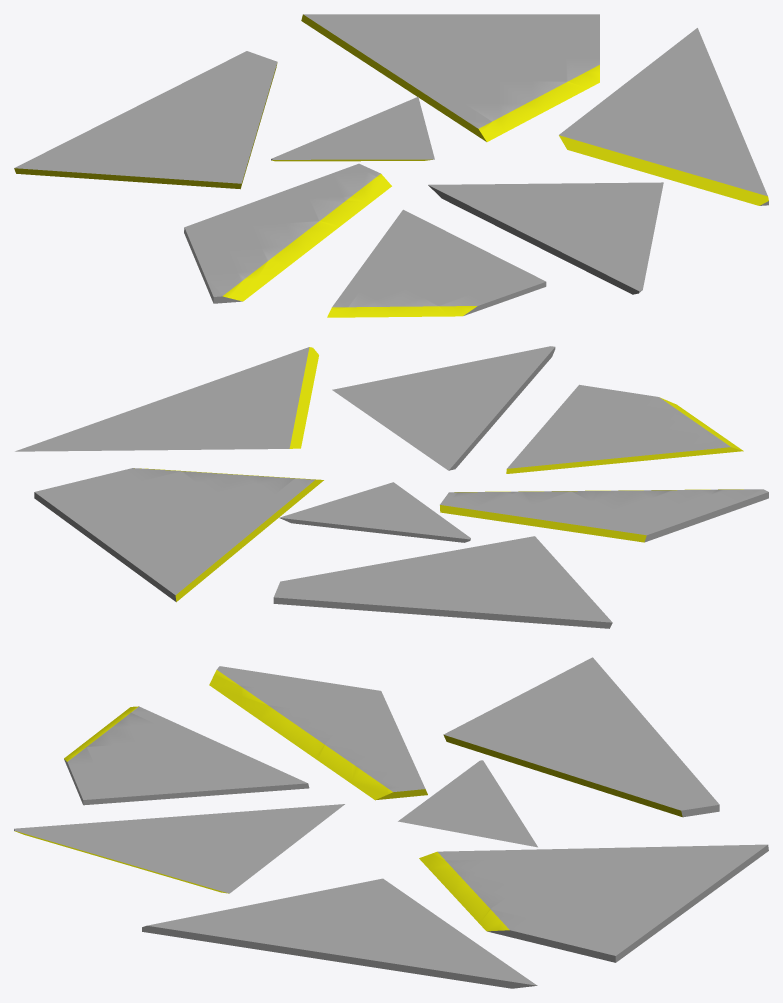
The model's file is Broken_Mirror_Shards.fbx.
The picture shows the model from 3 angles, top to bottom: view 1: azimuth 30°, elevation 25°; view 2: azimuth 150°, elevation 25°; view 3: azimuth 270°, elevation 25°; orthographic projection. The views are drawn at different scales.
Parts seen in each view (by area): view 1: SHARD_1, SHARD_5, SHARD_4, SHARD_2, SHARD_3, SHARD_6, SHARD_7; view 2: SHARD_1, SHARD_5, SHARD_4, SHARD_2, SHARD_6, SHARD_3, SHARD_7; view 3: SHARD_1, SHARD_5, SHARD_4, SHARD_3, SHARD_2, SHARD_6, SHARD_7.
Part boxes in pixels (left/top/right/bottom): SHARD_1: left=301, top=14, right=599, bottom=141; SHARD_5: left=14, top=51, right=277, bottom=189; SHARD_4: left=559, top=28, right=768, bottom=205; SHARD_2: left=428, top=182, right=663, bottom=294; SHARD_3: left=184, top=163, right=391, bottom=303; SHARD_6: left=327, top=209, right=546, bottom=317; SHARD_7: left=271, top=97, right=434, bottom=161; SHARD_1: left=34, top=468, right=323, bottom=602; SHARD_5: left=273, top=536, right=612, bottom=628; SHARD_4: left=15, top=347, right=318, bottom=451; SHARD_2: left=332, top=346, right=555, bottom=470; SHARD_6: left=506, top=384, right=743, bottom=473; SHARD_3: left=440, top=489, right=768, bottom=542; SHARD_7: left=279, top=482, right=470, bottom=542; SHARD_1: left=419, top=844, right=768, bottom=962; SHARD_5: left=443, top=657, right=719, bottom=817; SHARD_4: left=142, top=878, right=537, bottom=988; SHARD_3: left=209, top=666, right=427, bottom=800; SHARD_2: left=14, top=804, right=344, bottom=893; SHARD_6: left=64, top=706, right=309, bottom=805; SHARD_7: left=398, top=760, right=537, bottom=847.
Size of the model in its own units: 72.87 by 0.715 by 70.76.
